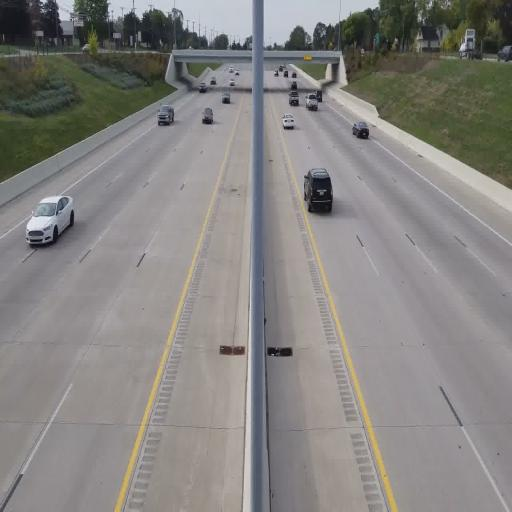Car: (25, 195, 74, 245), (302, 166, 333, 213), (157, 105, 174, 125), (352, 120, 369, 139), (202, 106, 214, 124), (282, 113, 294, 130), (199, 82, 206, 93), (210, 76, 217, 85)
